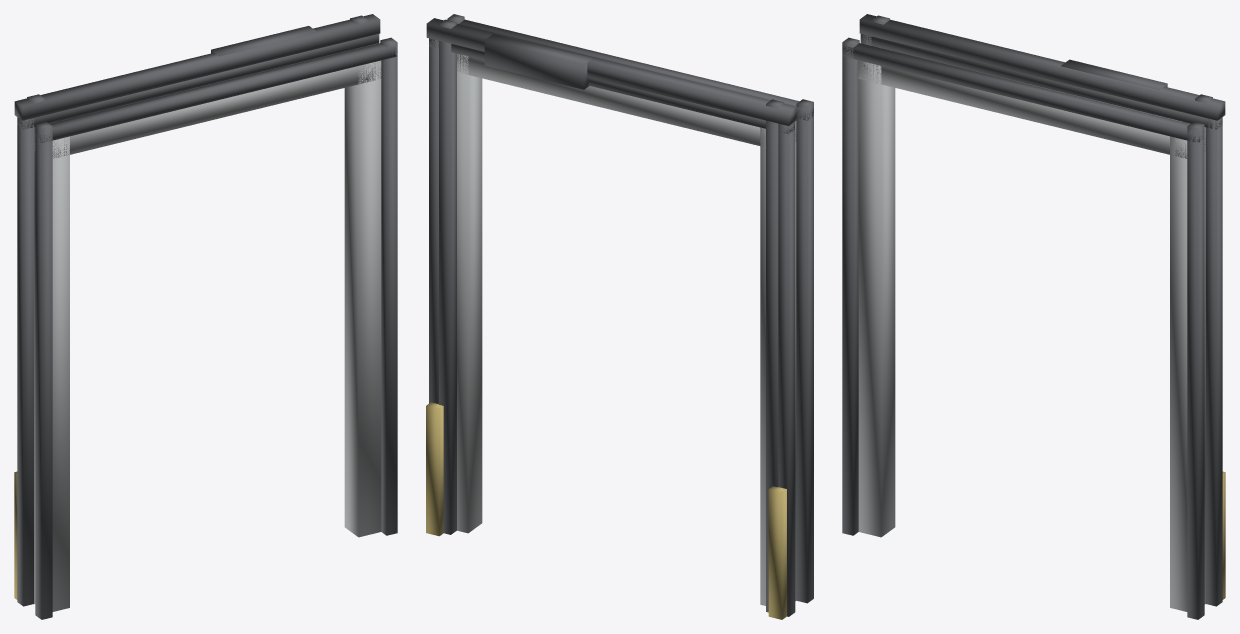
The model's file is bay_opening_service_bay_w240_h360_d20.glb.
3 renders of one model, left to right at view 1: azimuth 30°, elevation 25°; view 2: azimuth 150°, elevation 25°; view 3: azimuth 330°, elevation 25°, orthographic.
Visible parts, largest first — view 1: world; view 2: world; view 3: world.
Part boxes in pixels (box(x1,y1,x2,y2)): world: box(14, 14, 397, 619); world: box(426, 14, 813, 619); world: box(842, 14, 1225, 619).
Size of the model in its own units: 2.98 by 3.99 by 0.422.
